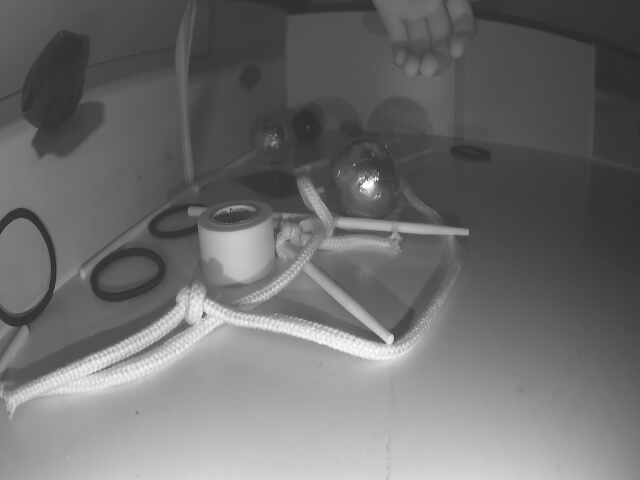Dead: (295, 109, 320, 143)
Live: (332, 138, 396, 219), (254, 118, 290, 162)
